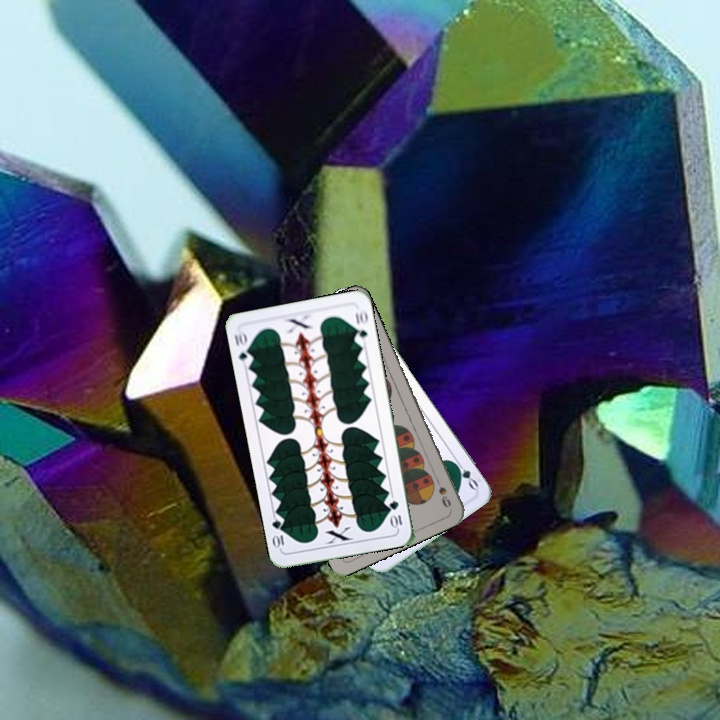G10: (230, 327, 255, 367), (385, 496, 405, 531)
GO: (449, 455, 481, 492)
S9: (431, 472, 454, 511)
